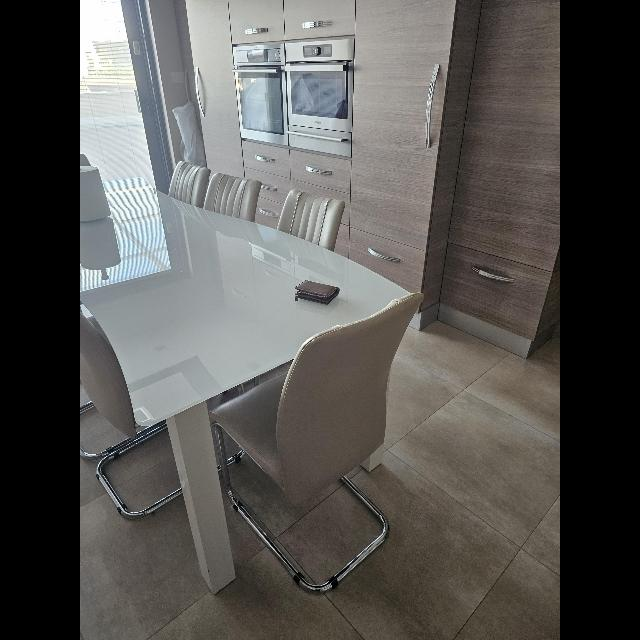Wallet: (294, 281, 340, 305)
